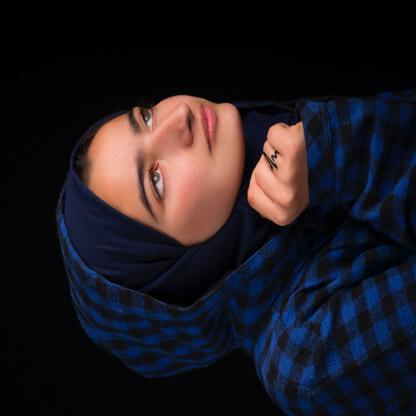Eye: (149, 158, 167, 206), (140, 106, 157, 131)
Mouth: (198, 101, 218, 156)
Nose: (152, 100, 193, 147)
